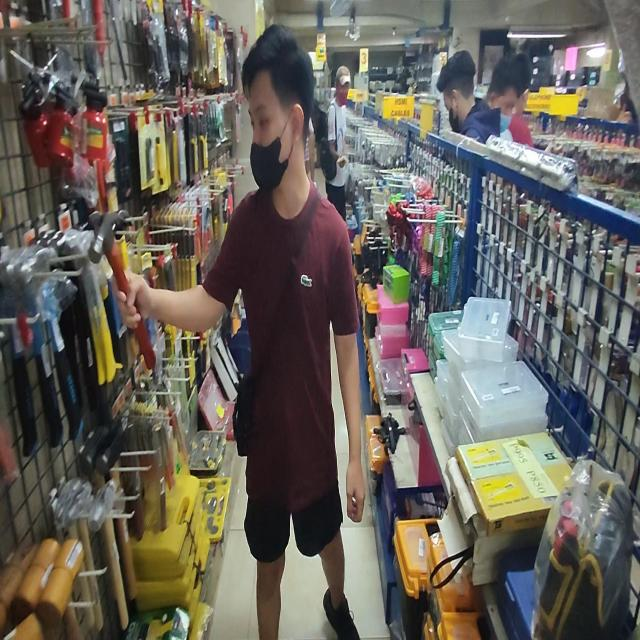hammer: (88, 212, 156, 368)
